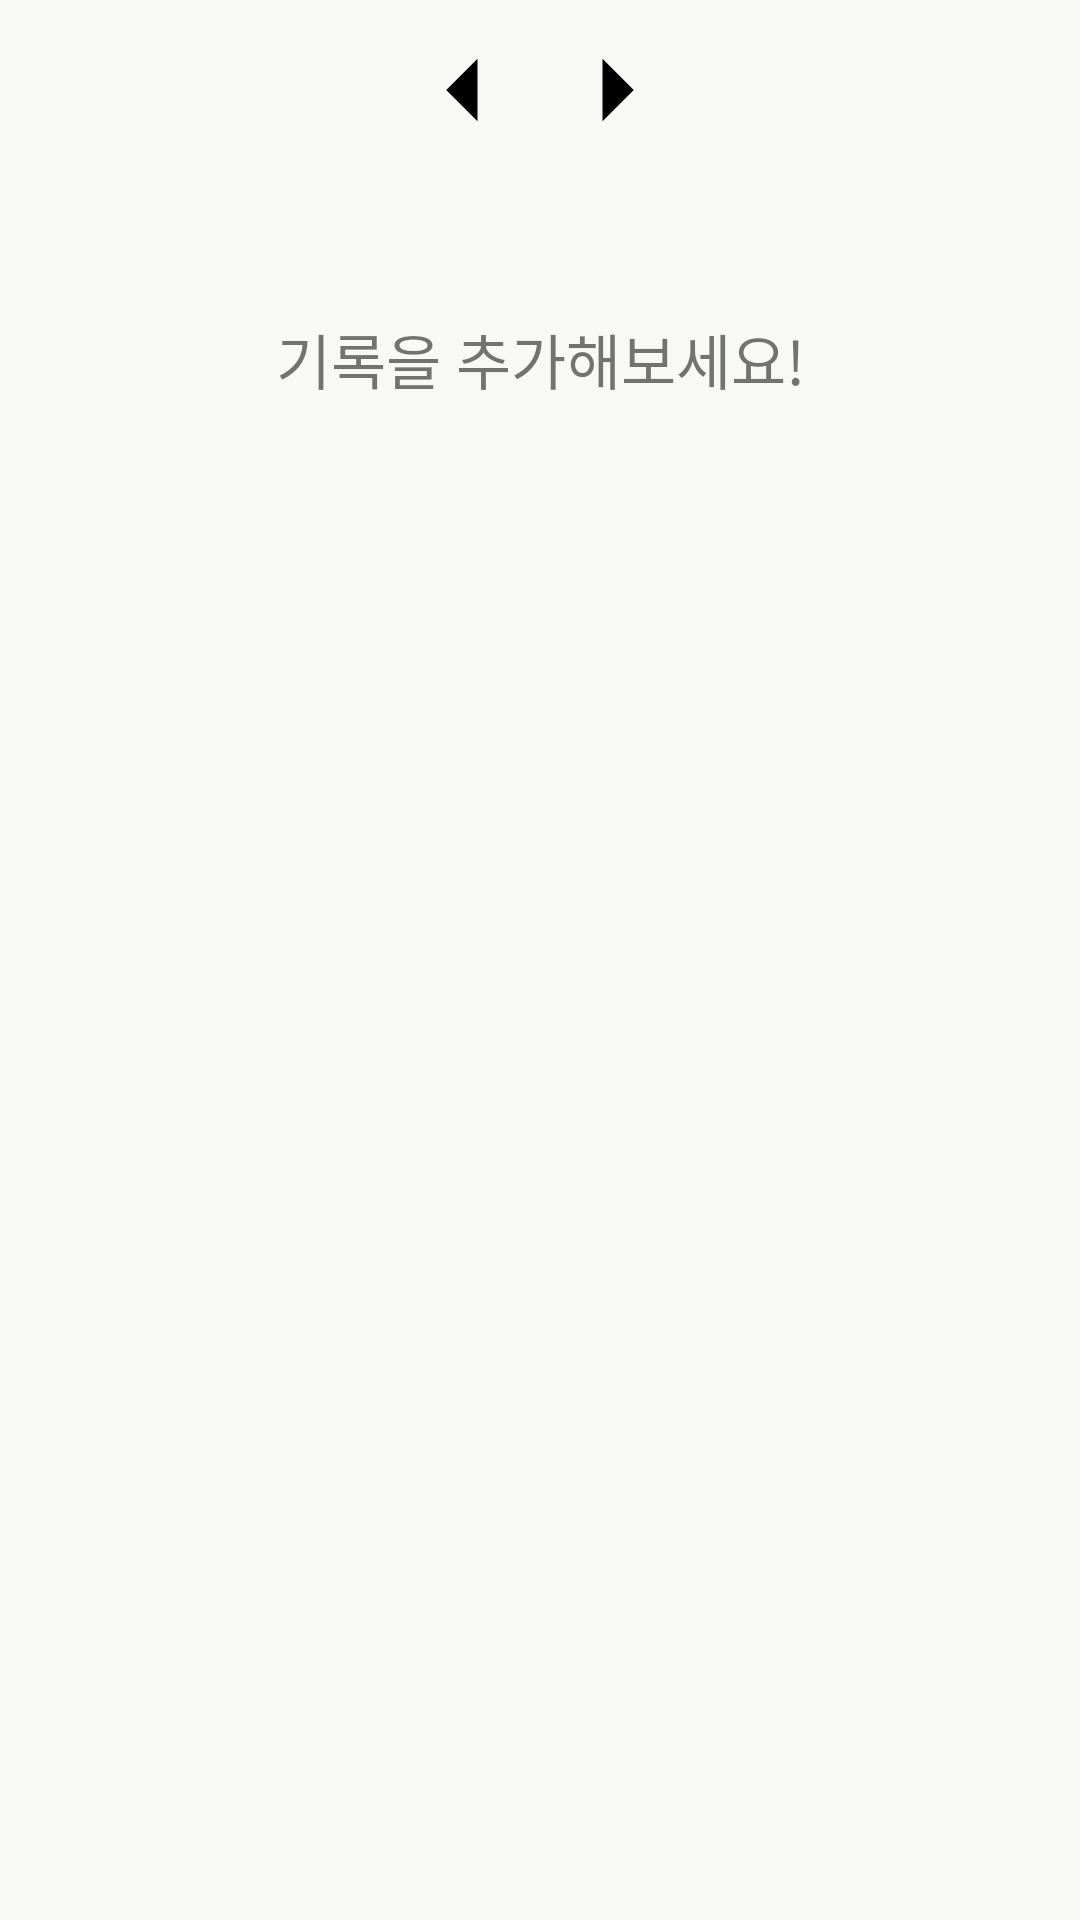

Icon click points for this 1080*1920 phone screenshot, format (x=x, y=y):
left arrow: (x=462, y=90)
right arrow: (x=618, y=90)
